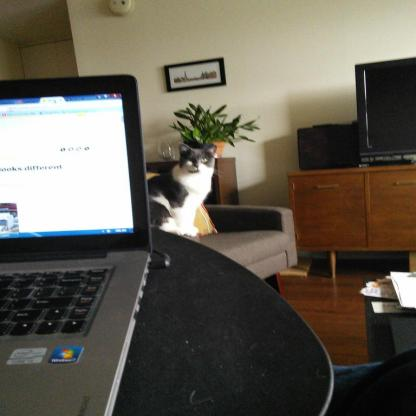board: (5, 80, 164, 396)
